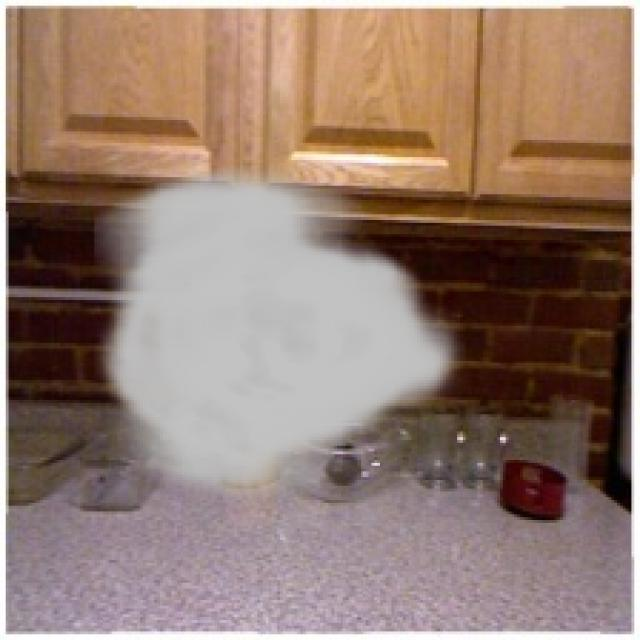smoke: (94, 166, 466, 508)
